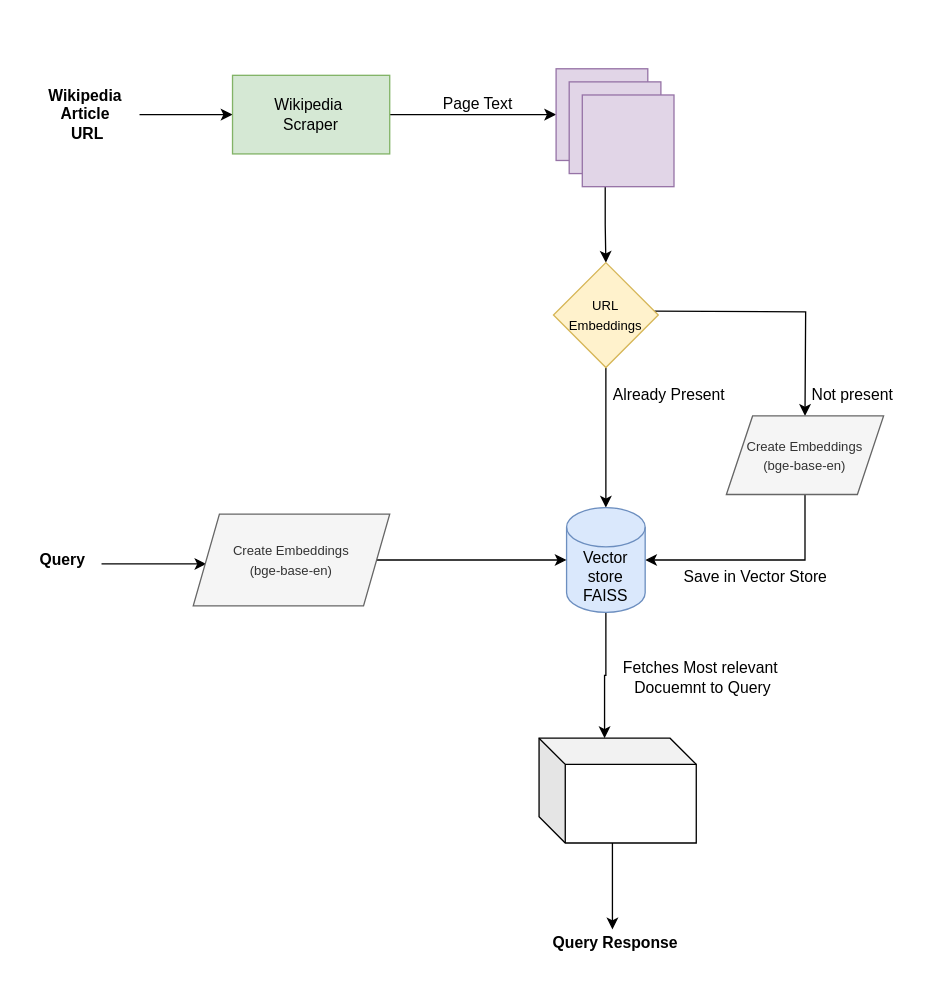
This 933x1001 diagram has some shape labels left out. Each missing label, with the box of its shape:
Chunks: (581, 94, 674, 187)
LLM Model (GPT 3.5): (538, 737, 696, 843)
